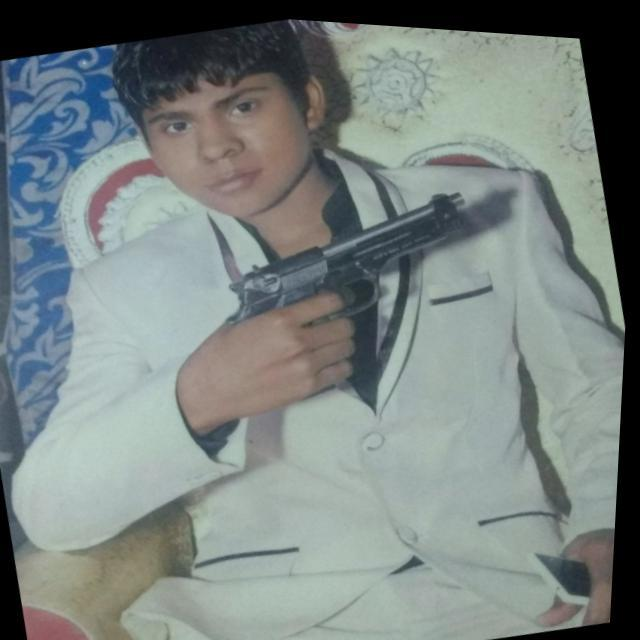weapon: (202, 165, 510, 423)
